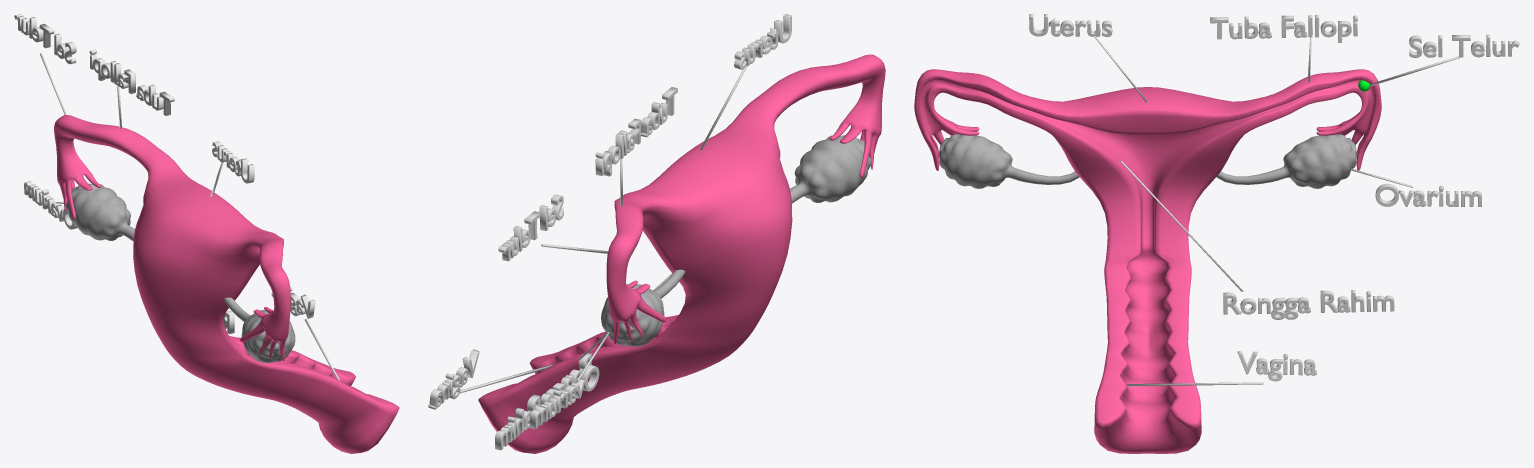
The model's file is fase1a.fbx.
3 views of the same model, side by side, from view 1: azimuth 30°, elevation 25°; view 2: azimuth 150°, elevation 25°; view 3: azimuth 270°, elevation 25° (orthographic). The views are drawn at different scales.
Parts seen in each view (by area): view 1: Cube.001, Sphere, tuba fallopi, sel telur, ovarium, uterus, vagina; view 2: Cube.001, Sphere, tuba fallopi, rongga rahim, sel telur, ovarium, uterus, vagina; view 3: Cube.001, Sphere, rongga rahim, tuba fallopi, sel telur, ovarium, vagina, uterus.
Part boxes in pixels (<box>): Cube.001: <box>54,115,399,453</box>; Sphere: <box>66,183,295,362</box>; tuba fallopi: <box>89,49,174,115</box>; sel telur: <box>14,14,76,64</box>; ovarium: <box>24,181,77,229</box>; uterus: <box>212,141,254,183</box>; vagina: <box>271,286,315,318</box>; Cube.001: <box>478,54,885,453</box>; Sphere: <box>601,135,871,346</box>; tuba fallopi: <box>595,87,677,176</box>; rongga rahim: <box>495,353,591,450</box>; sel telur: <box>498,194,563,261</box>; ovarium: <box>529,364,599,429</box>; uterus: <box>734,14,791,69</box>; vagina: <box>428,349,479,409</box>; Cube.001: <box>914,69,1381,453</box>; Sphere: <box>939,134,1356,188</box>; rongga rahim: <box>1223,290,1394,319</box>; tuba fallopi: <box>1210,15,1357,42</box>; sel telur: <box>1409,34,1519,57</box>; ovarium: <box>1375,183,1481,206</box>; vagina: <box>1237,351,1316,381</box>; uterus: <box>1029,14,1112,36</box>.
Bounding box in the file's own units: 74.77 × 108 × 162.
Materials: 8 (3 with a texture image).
